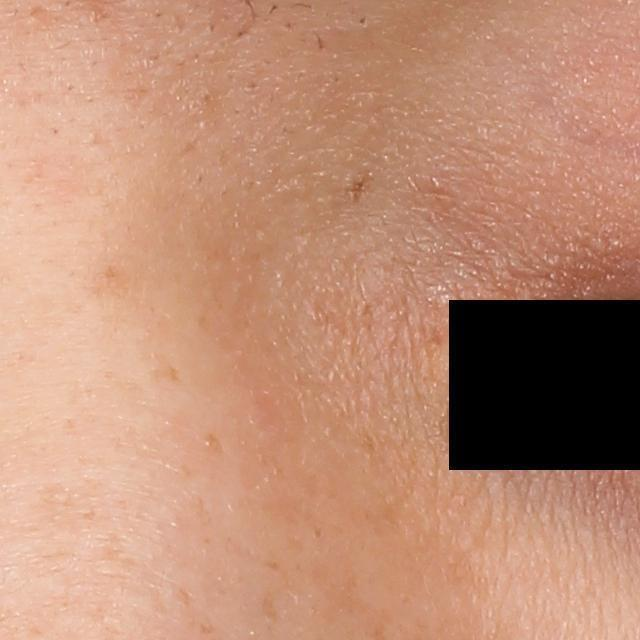melasma: (259, 590, 284, 624)
